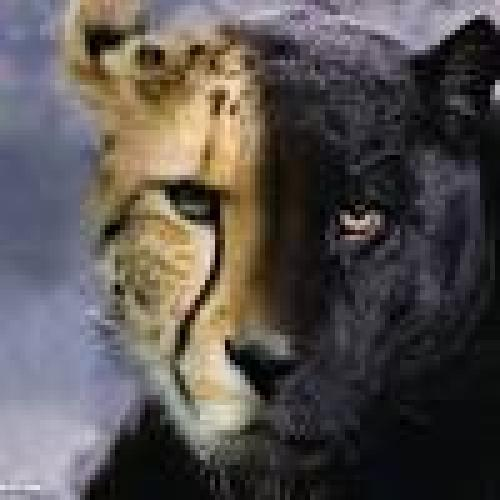cheetah-endangered: (68, 0, 500, 500)
